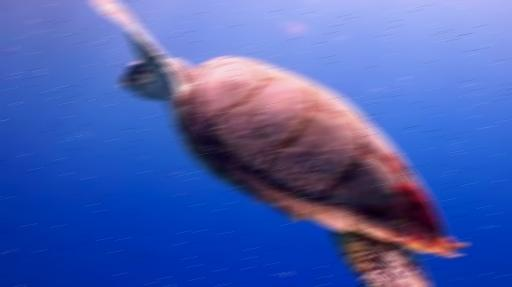Fish: (97, 0, 465, 286)
